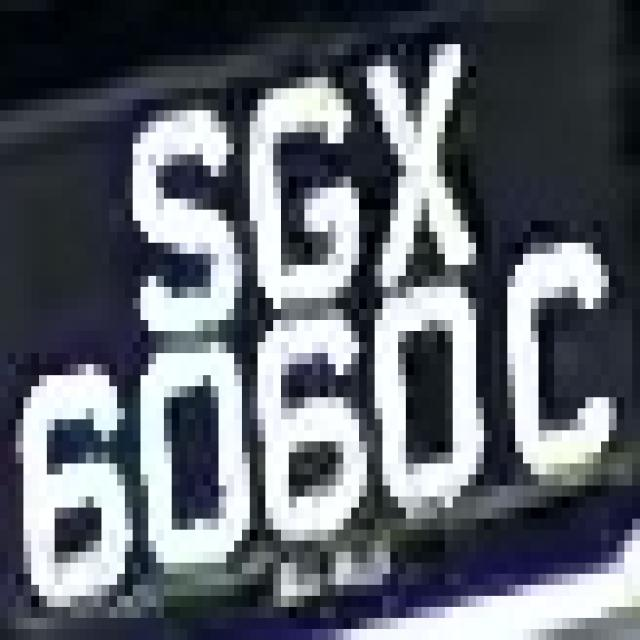0: (351, 254, 492, 518), (125, 320, 250, 596)
6: (234, 298, 390, 574), (0, 342, 133, 629)
C: (492, 220, 616, 486)
G: (226, 66, 359, 298)
S: (94, 66, 242, 353)
X: (351, 22, 492, 254)
